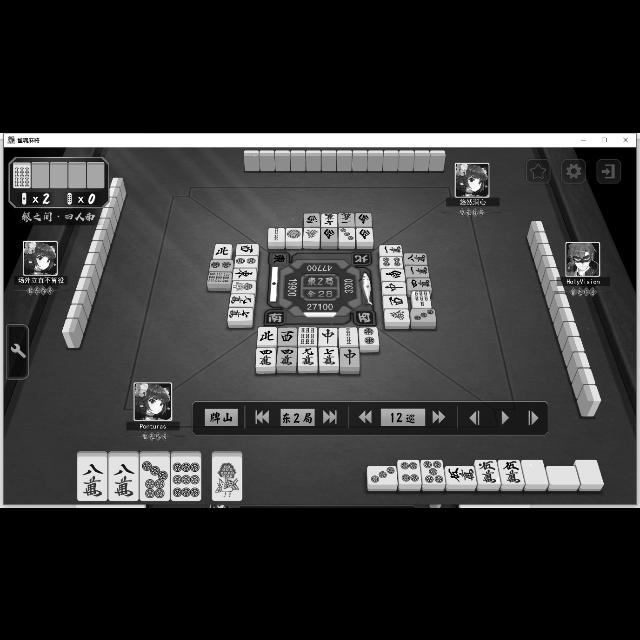1m: (404, 264, 430, 278), (379, 244, 403, 256), (338, 212, 354, 226)
1p: (286, 226, 302, 240)
1s: (212, 456, 242, 500), (231, 280, 255, 292)
2p: (359, 326, 378, 346), (210, 258, 232, 272), (234, 256, 258, 266)
2s: (339, 328, 359, 347), (268, 226, 284, 242)
3p: (367, 466, 398, 484), (411, 308, 437, 322), (338, 226, 356, 242)
4m: (255, 346, 275, 366), (278, 346, 296, 366), (407, 277, 431, 289)
4p: (398, 460, 422, 484), (379, 256, 403, 268)
5m: (474, 458, 502, 484), (498, 460, 524, 484), (446, 466, 476, 484)
5p: (420, 460, 446, 484)
6s: (14, 165, 31, 188)
7m: (228, 307, 252, 321), (320, 347, 338, 365), (320, 212, 338, 226)
7p: (140, 456, 170, 500)
7s: (412, 290, 432, 308)
8m: (77, 456, 106, 500), (109, 456, 138, 500), (402, 252, 428, 264)
9m: (298, 348, 316, 367), (230, 294, 254, 306)
9p: (171, 456, 201, 500)
9s: (298, 326, 318, 344), (207, 271, 231, 283)
chun: (340, 347, 360, 367), (318, 326, 336, 346), (382, 280, 406, 294)
haku: (546, 464, 580, 484), (521, 460, 549, 484), (576, 460, 604, 484)
hatsu: (384, 308, 410, 322), (304, 227, 320, 241)
nan: (381, 268, 405, 280), (320, 227, 338, 241), (356, 227, 374, 241), (356, 212, 372, 226)
pe: (257, 326, 277, 346), (212, 244, 232, 258)
sha: (277, 326, 297, 346), (382, 294, 408, 308), (236, 243, 258, 255), (304, 212, 320, 226)
tou: (233, 268, 257, 280)
